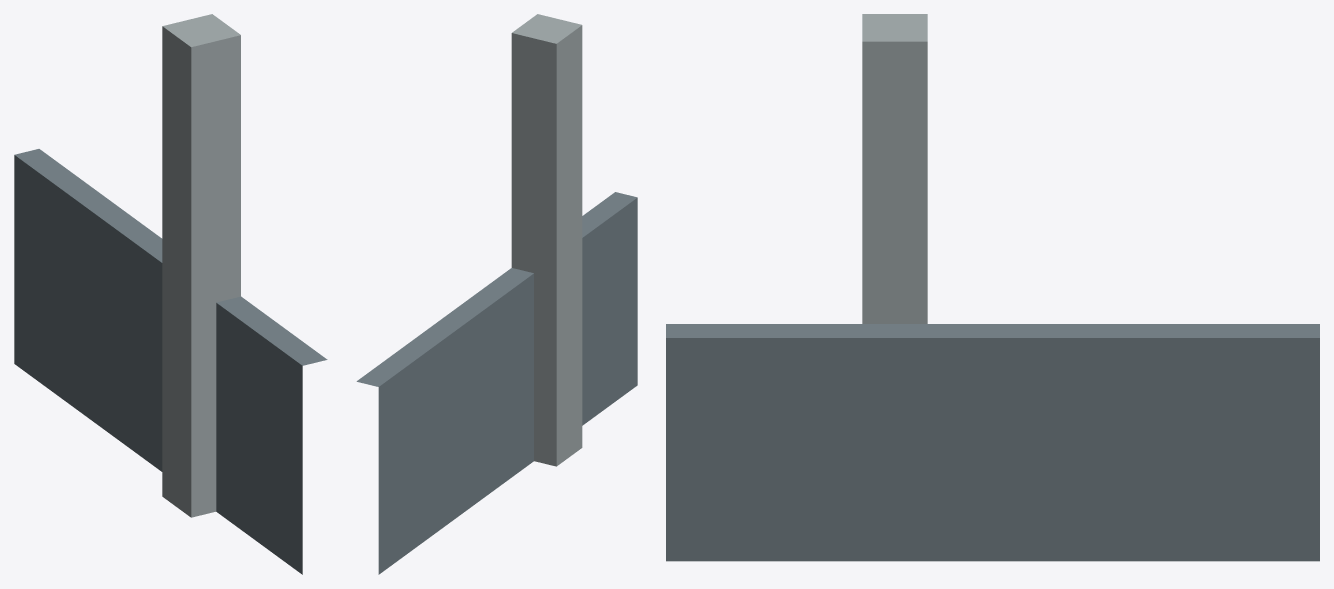
The model's file is cell_65.obj.
The picture shows the model from 3 angles, left to right: view 1: azimuth 30°, elevation 25°; view 2: azimuth 150°, elevation 25°; view 3: azimuth 270°, elevation 25°; orthographic projection. The views are drawn at different scales.
Size of the model in its own units: 0.1 by 0.9 by 1.
